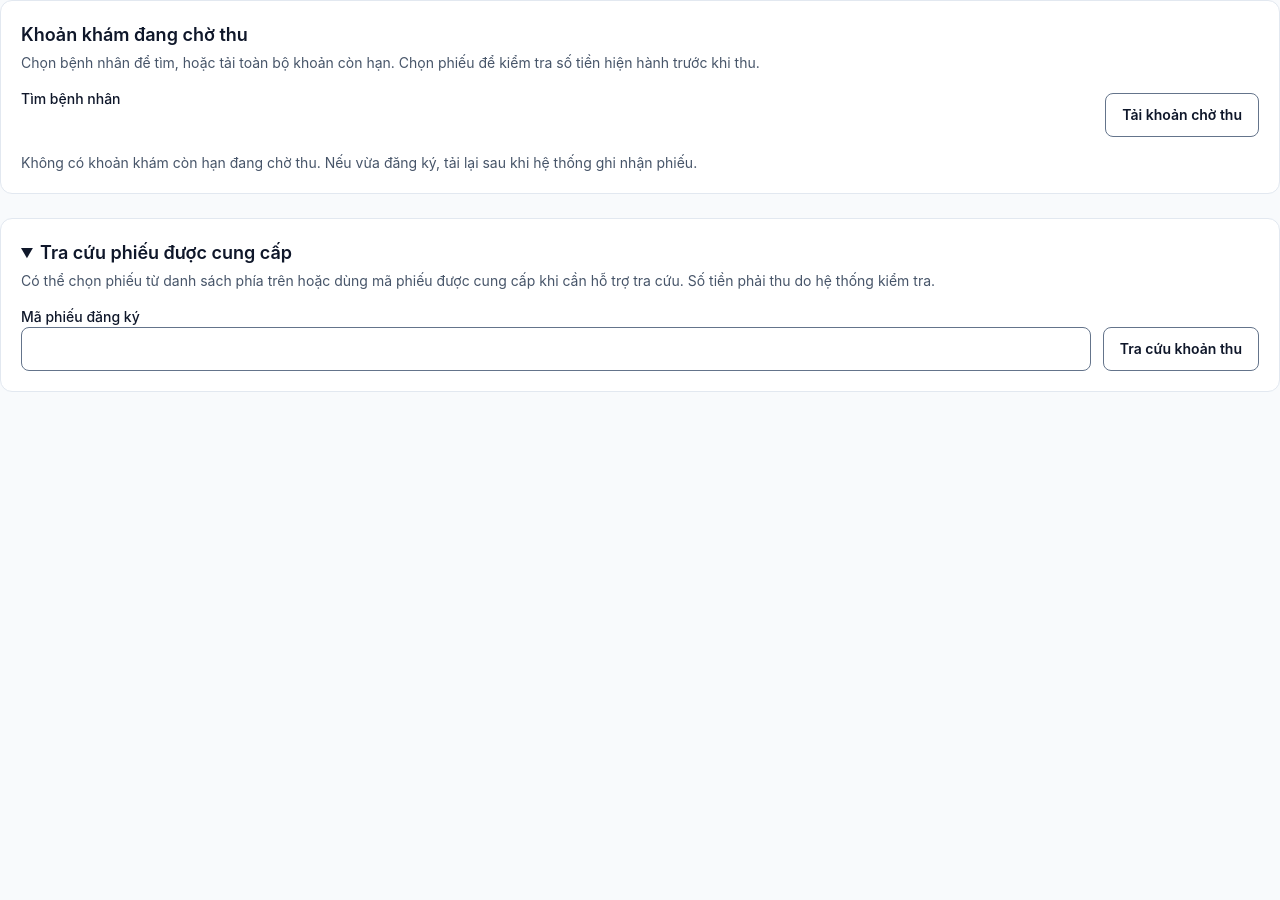
it: scheduled outpatient cashier workflow › clears the previous request and blocks its payment while a different registration is loading
The width and height of the screenshot is (1280, 900).
In the field labelled "Mã phiếu đăng ký": (556, 349) [21,327,1091,371], type "registration-a"
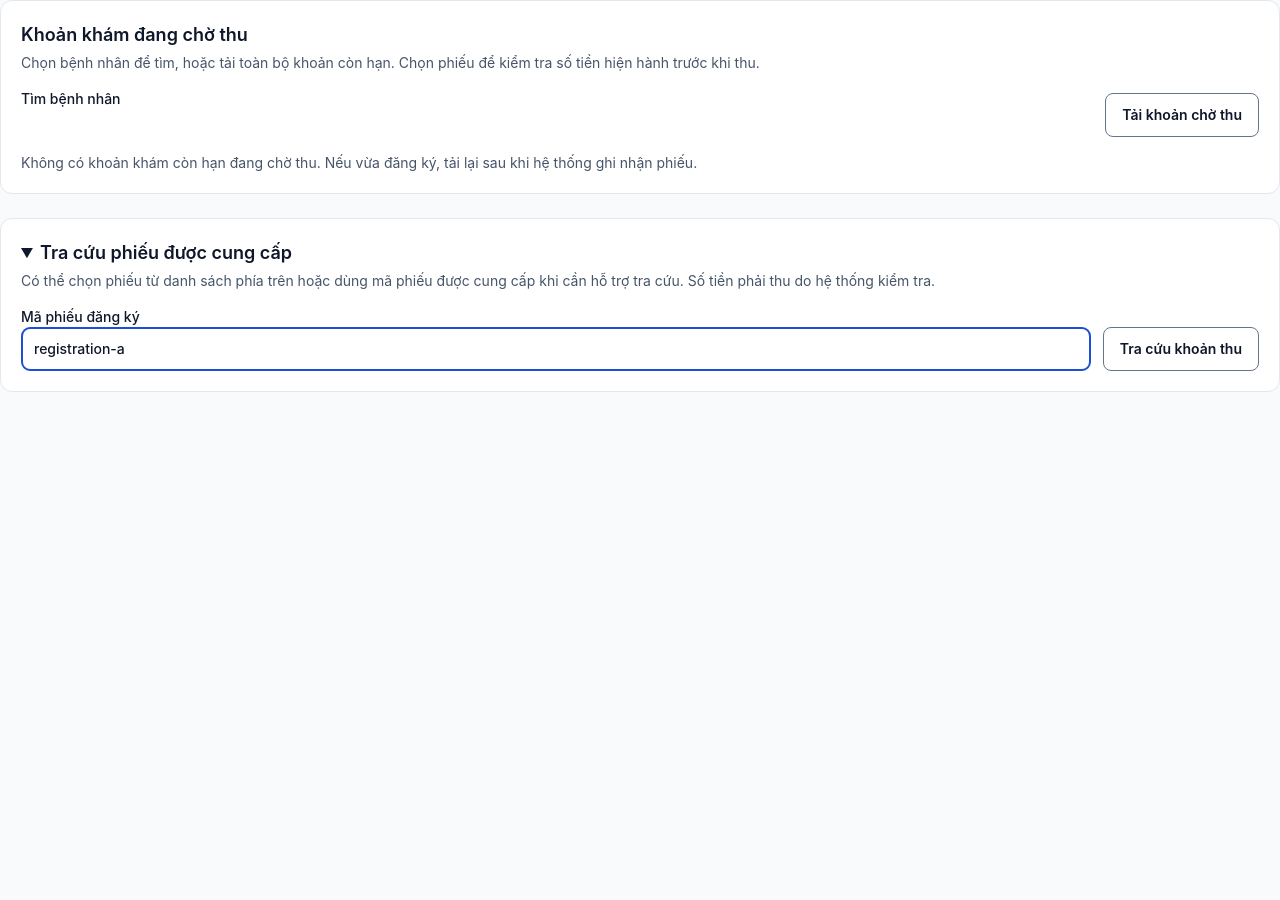
Click the button "Tra cứu khoản thu": (1181, 349) [1103,327,1259,371]
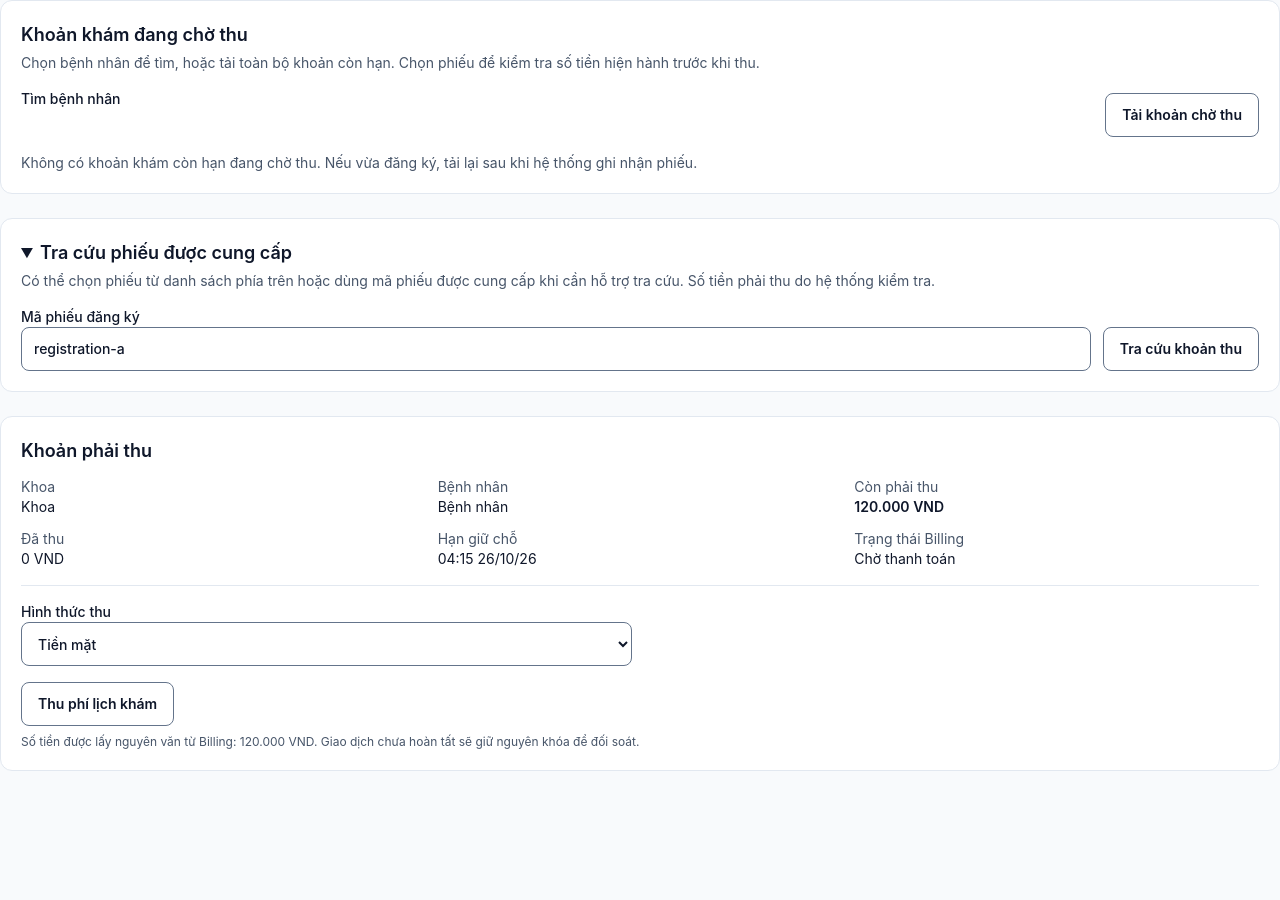
Expected: the text "Còn phải thu" is shown, [854,478,938,495]
Replace the text in the field labelled "Mã phiếu đăng ký" with "registration-b": (556, 349) [21,327,1091,371]
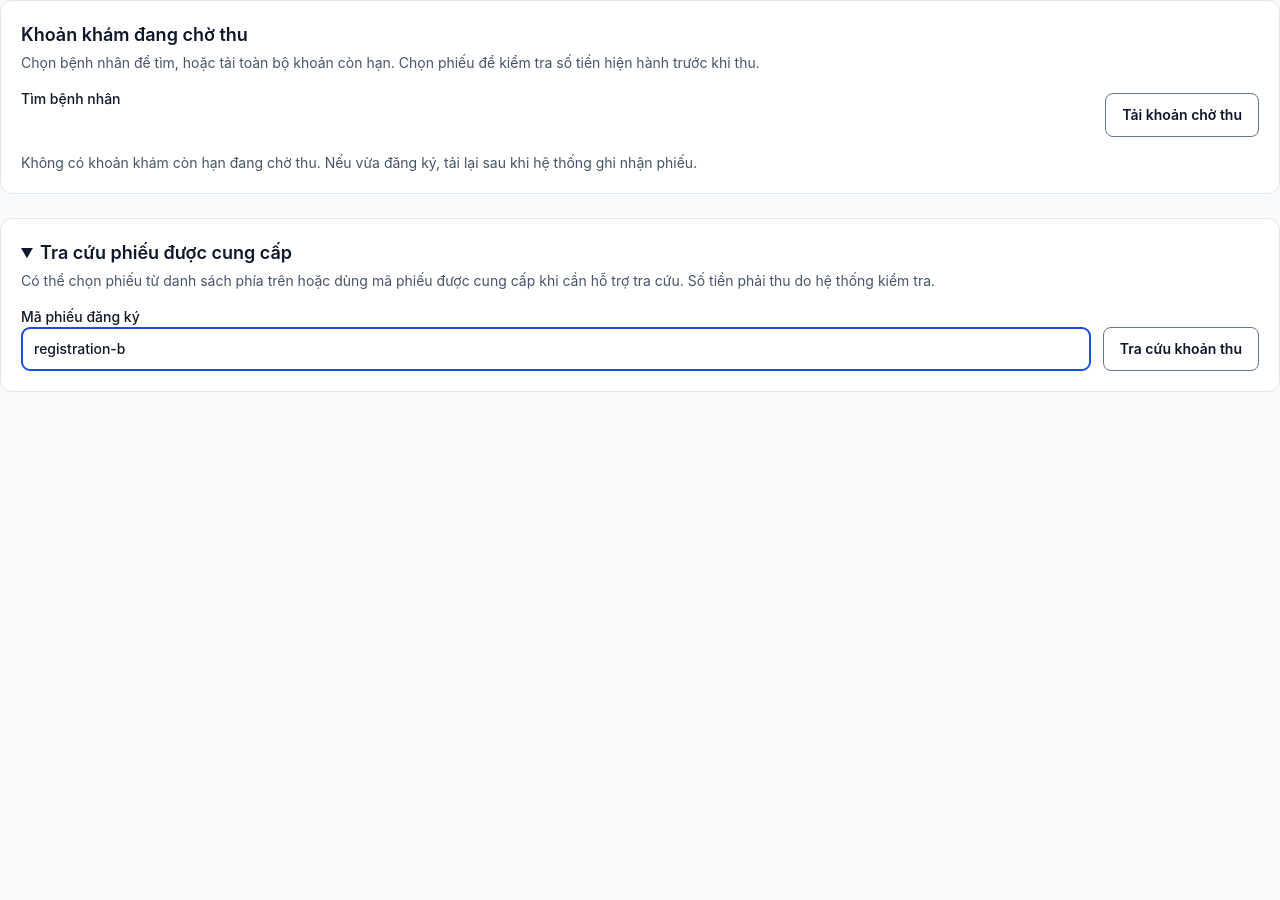
Click the button "Tra cứu khoản thu": (1181, 349) [1103,327,1259,371]
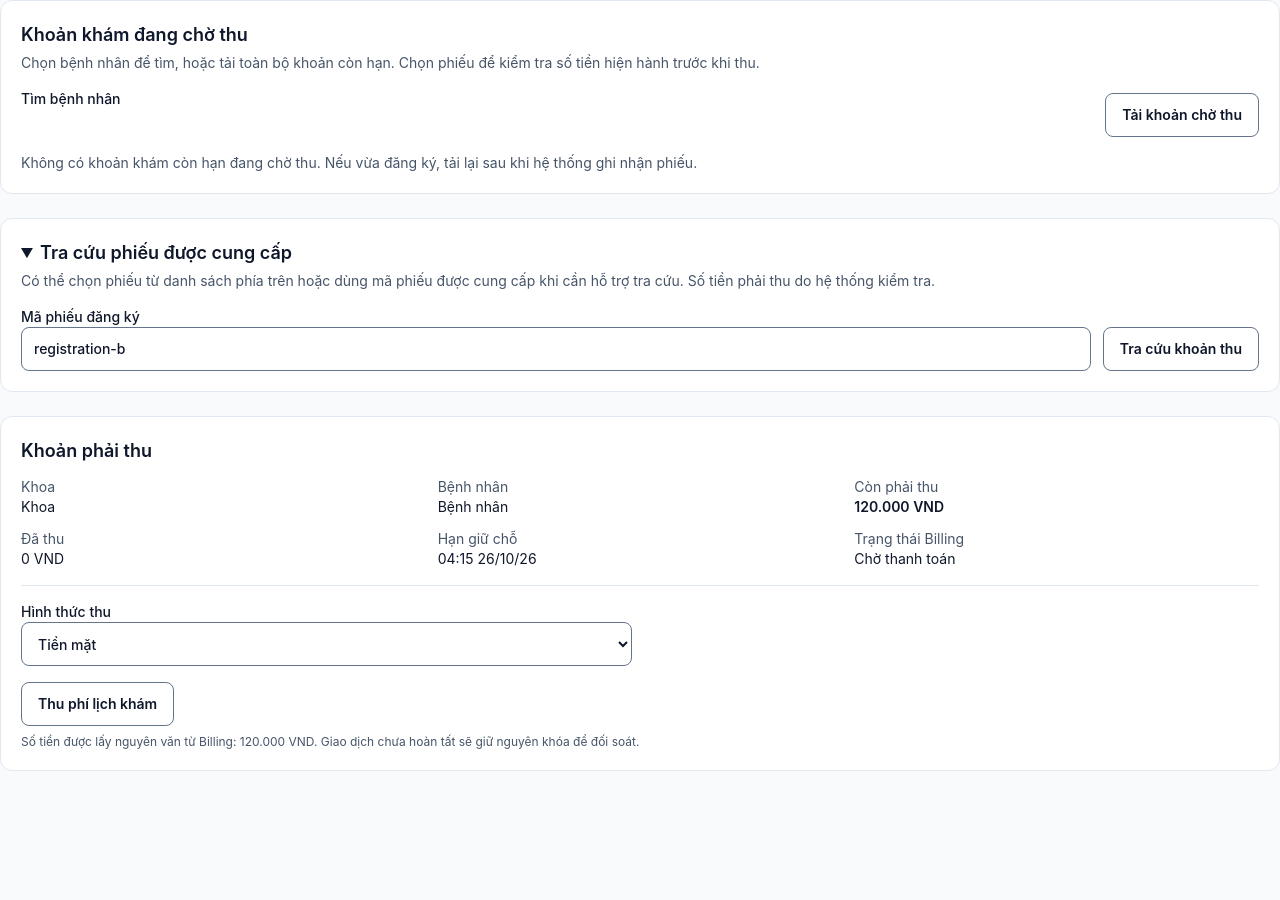
Expected: the text "Còn phải thu" is shown, [854,478,938,495]
